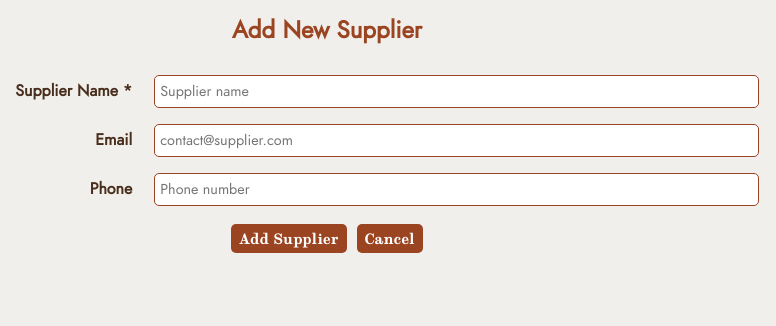
it: AdminSupplierFormPage › shows validation errors for 400 response with array values
The image size is (776, 326).
Step 1. Type "Bad Supplier" into the field with placeholder "Supplier name" → (457, 91), box [154, 75, 759, 108]
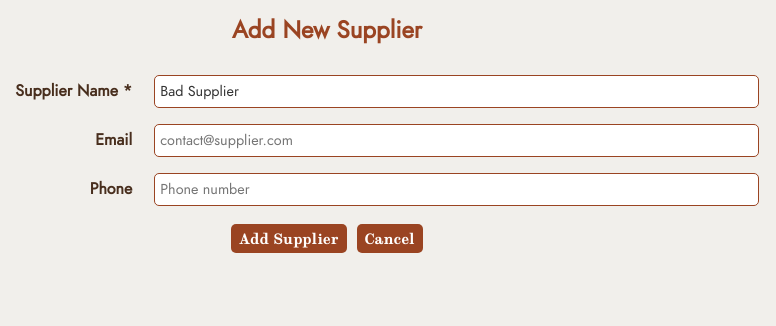
Step 2. Click the button "Add Supplier" → (289, 238), box [231, 224, 347, 253]
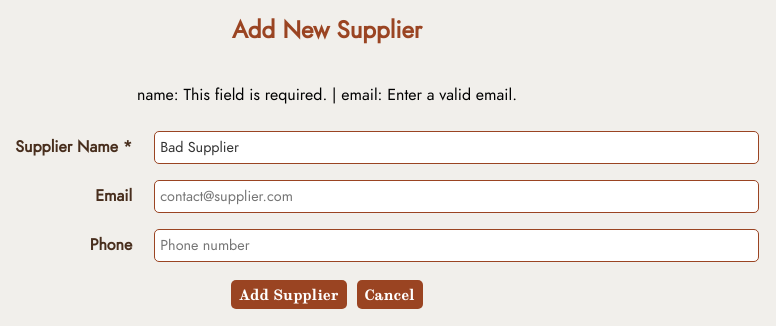
Result: the text "name: This field is required. | email: Enter a valid email." is shown at [137, 84, 517, 106]
